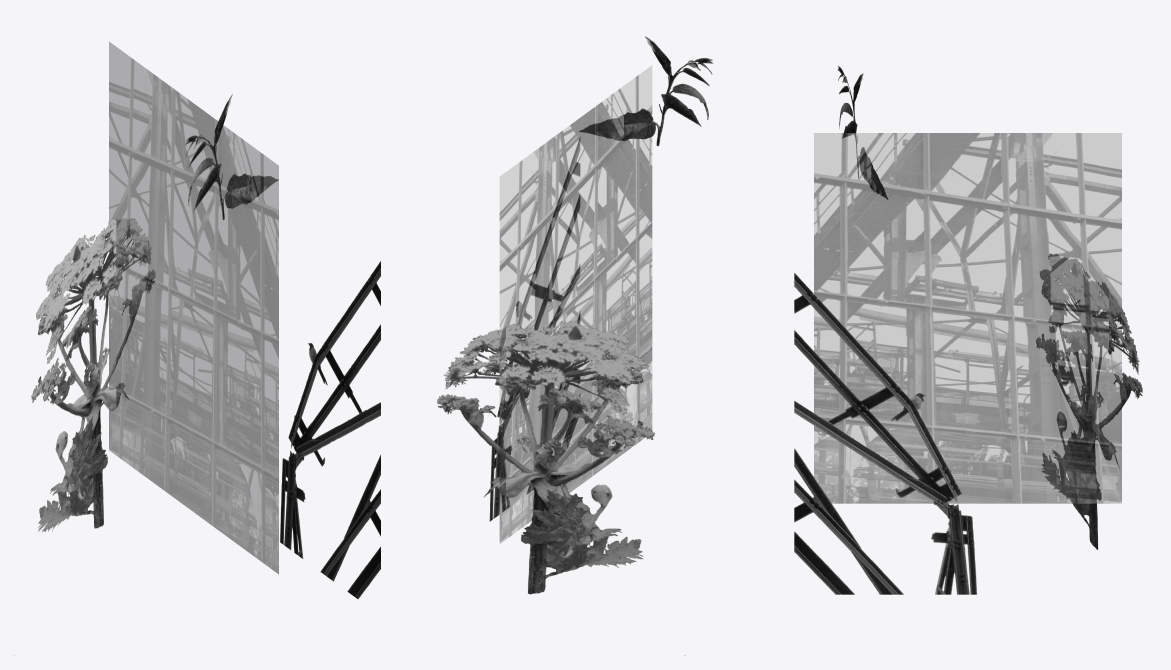
Rendered from asset.glb.
3 renders of one model, left to right at view 1: azimuth 30°, elevation 25°; view 2: azimuth 150°, elevation 25°; view 3: azimuth 270°, elevation 25°, orthographic. The views are drawn at different scales.
Visible parts, largest first — view 1: Fenster halb durchsichtig.png, Herkules freigestellt, Elster freigestellt.png, Pflanze freigestellt.png; view 2: Fenster halb durchsichtig.png, Herkules freigestellt, Elster freigestellt.png, Pflanze freigestellt.png; view 3: Fenster halb durchsichtig.png, Elster freigestellt.png, Herkules freigestellt, Pflanze freigestellt.png.
Boxes of the visible parts, x1,y1,x2,y2 form: Fenster halb durchsichtig.png: (109,41,278,574); Herkules freigestellt: (14,218,155,655); Elster freigestellt.png: (280,261,380,599); Pflanze freigestellt.png: (185,94,277,220); Fenster halb durchsichtig.png: (499,65,652,543); Herkules freigestellt: (437,321,684,655); Elster freigestellt.png: (489,137,580,521); Pflanze freigestellt.png: (579,36,713,145); Fenster halb durchsichtig.png: (814,133,1121,503); Elster freigestellt.png: (794,273,976,594); Herkules freigestellt: (1036,253,1142,549); Pflanze freigestellt.png: (837,66,888,199).
Size of the model in its own units: 0.7564 by 1.48 by 0.8856.
4 materials, 4 textured.
